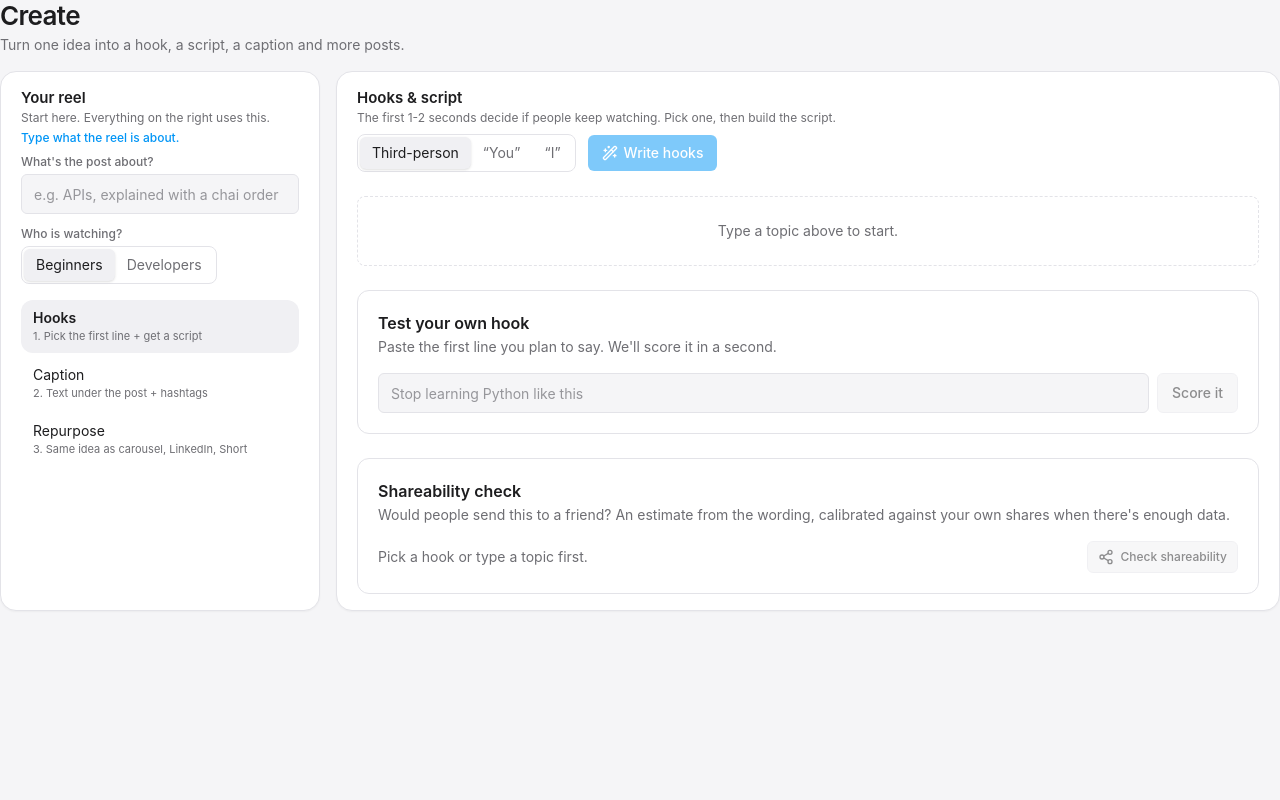
Test: Create › repurpose renders 5 carousel slides
Type "APIs" into the field labelled "What's the post about?". click: coordinates (160, 194)
box: [21,174,299,214]
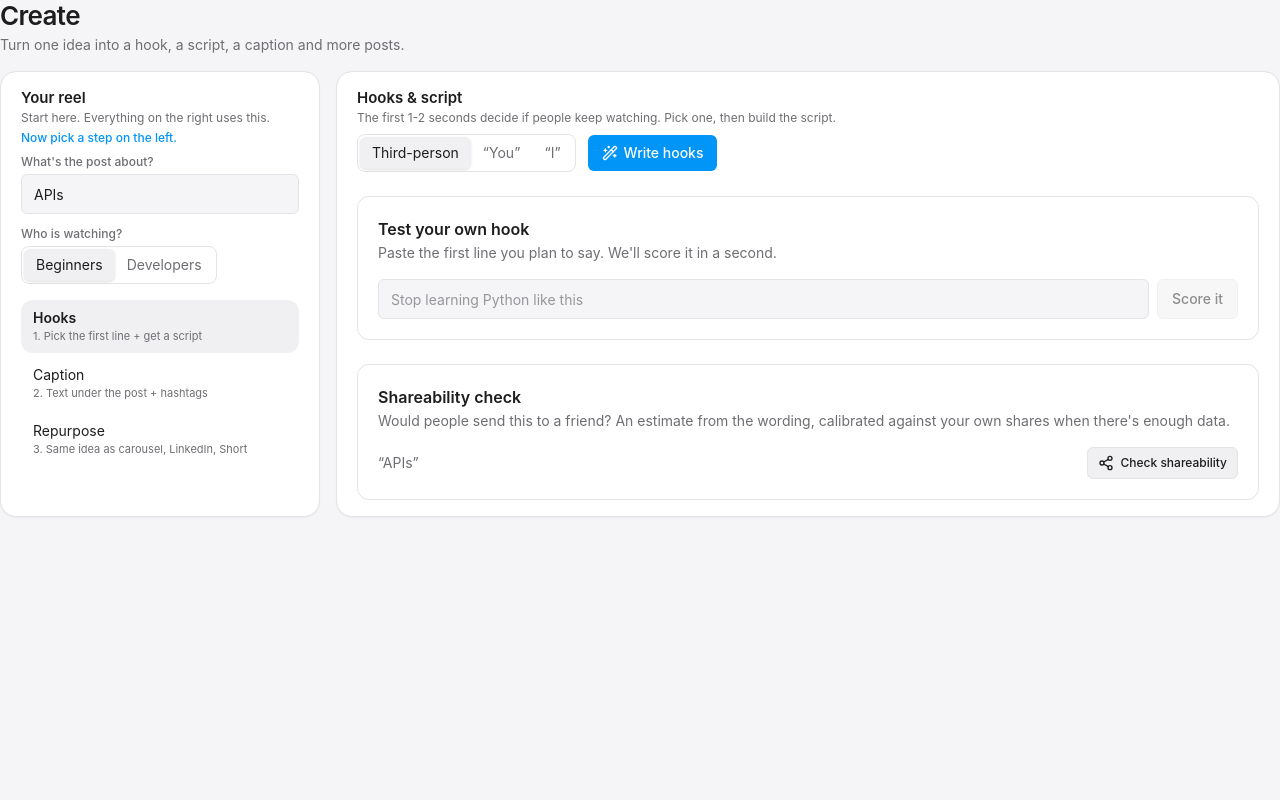
Click the tab "Repurpose". click: coordinates (160, 439)
box: [21,413,299,466]
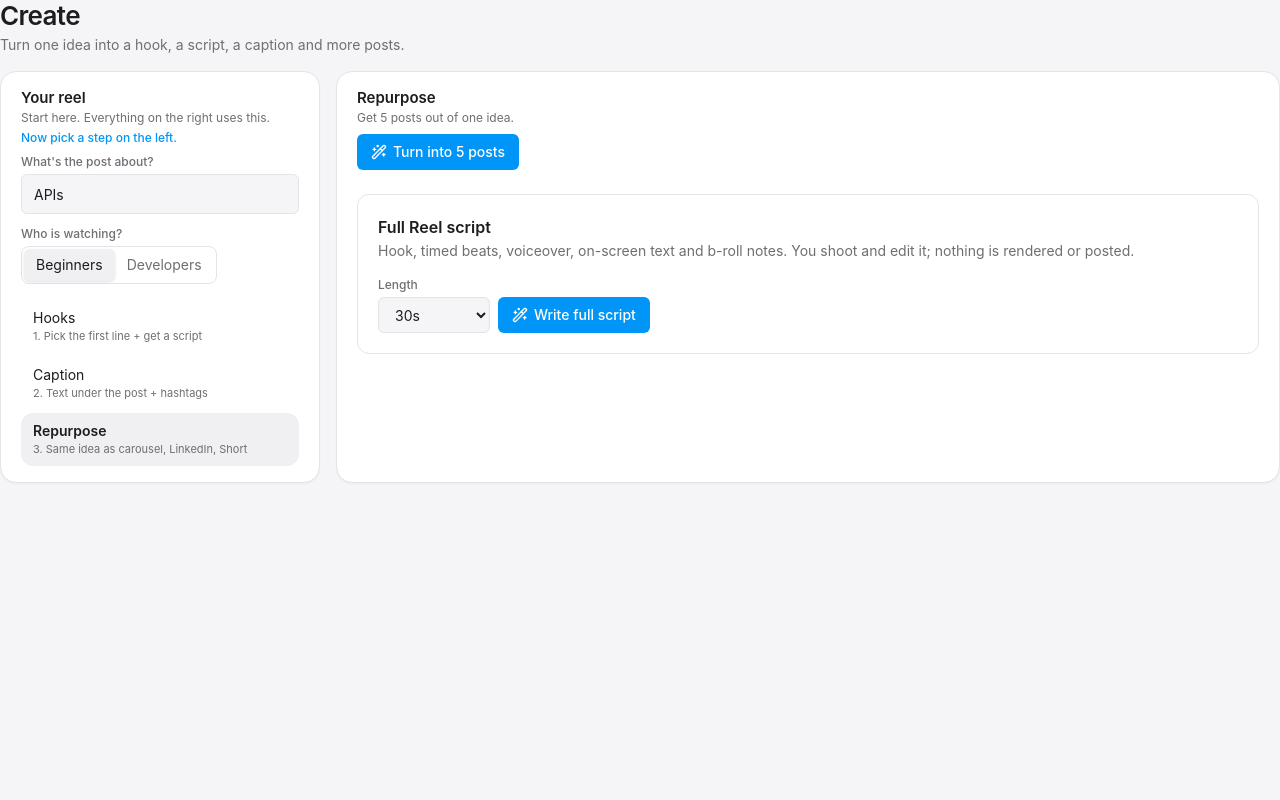
Click the button "Turn into 5 posts". click: coordinates (438, 152)
box: [357,134,519,170]
(page scrolled)
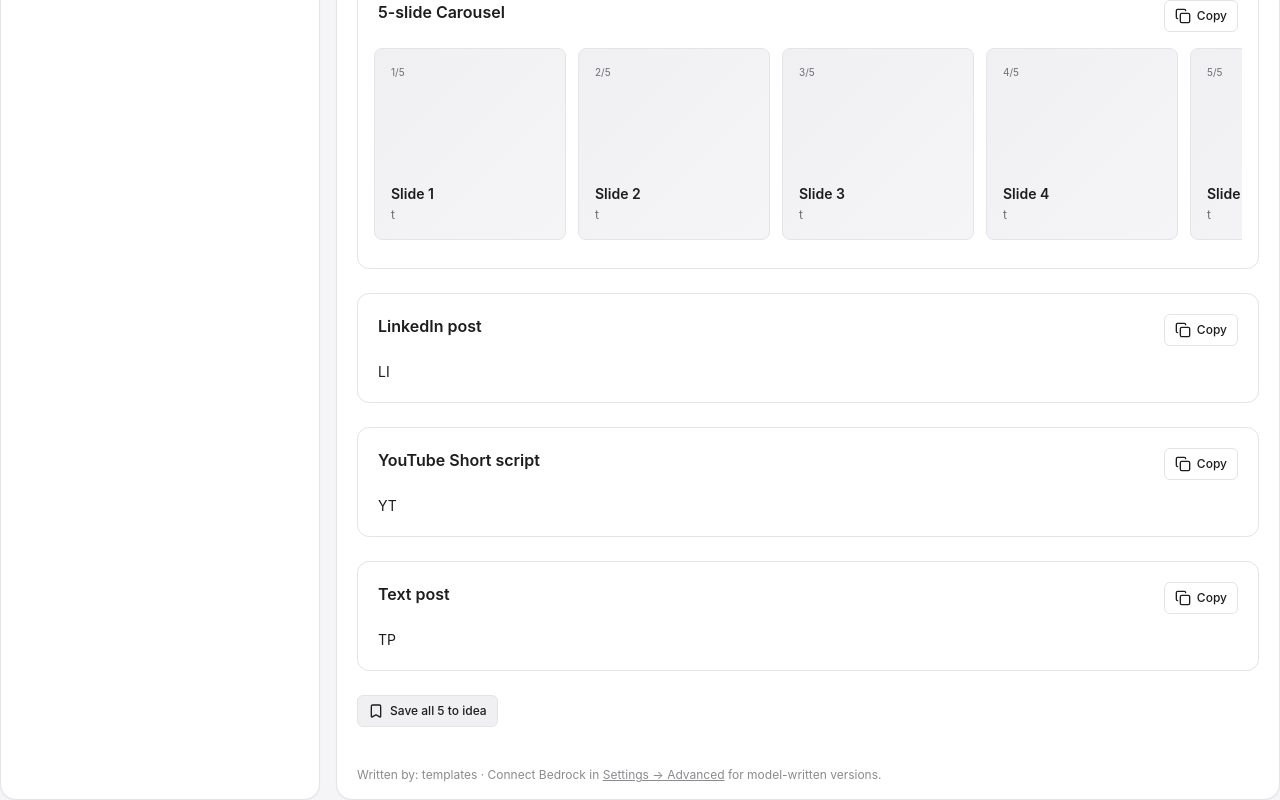
Check: the element with test id "carousel" is shown, box [374,48,1242,248]
Check: the number of elements with test id "slide" is 5
Check: the heading "LinkedIn post" is shown, box [378,314,482,338]
